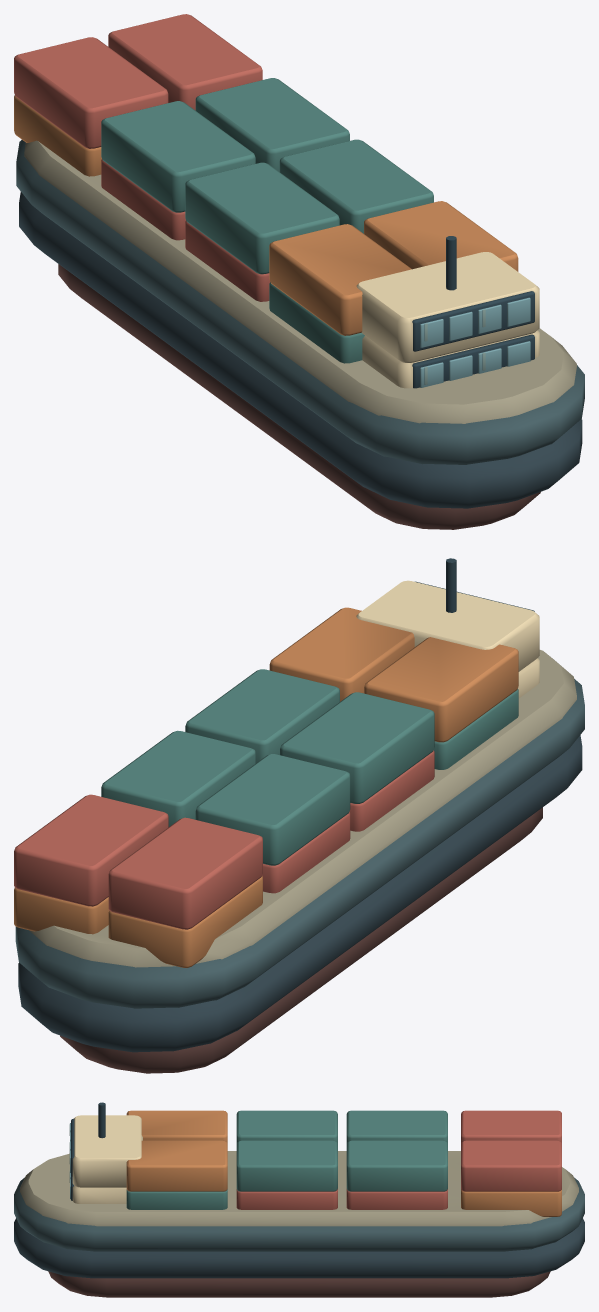
Rendered from harbor_landmark.glb.
3 renders of one model, top to bottom at view 1: azimuth 30°, elevation 25°; view 2: azimuth 150°, elevation 25°; view 3: azimuth 270°, elevation 25°, orthographic. The views are drawn at different scales.
Parts seen in each view (by area): view 1: HarborLandmark; view 2: HarborLandmark; view 3: HarborLandmark.
Part boxes in pixels (x1=…): HarborLandmark: x1=14, y1=14, x2=584, y2=529; HarborLandmark: x1=14, y1=558, x2=584, y2=1073; HarborLandmark: x1=14, y1=1102, x2=584, y2=1297.
Bounding box in the file's own units: 4.17 × 4.61 × 14.
